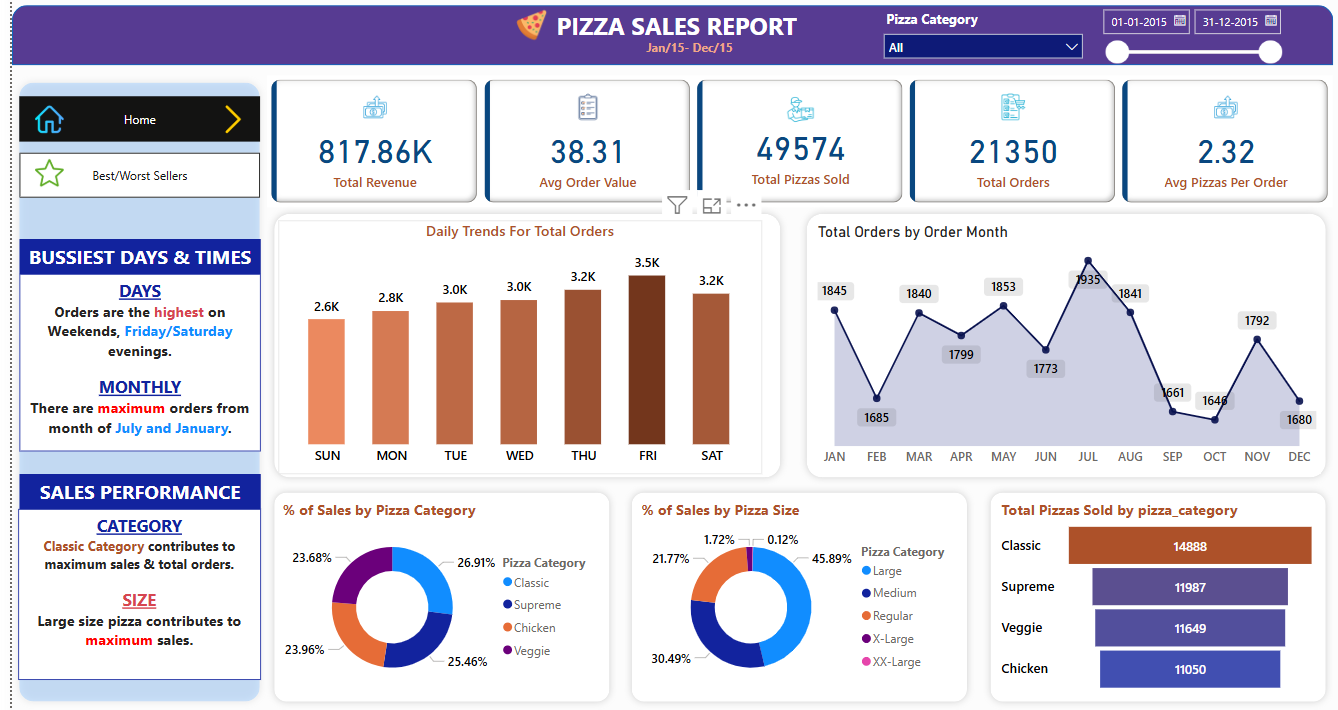

What the dashboard file says about the page in this screenshot:
{"tool":"powerbi","page":{"name":"Home","canvas":[1500,820],"ordinal":0},"visuals":[{"type":"shape","box":[0,96.1,284.1,706.1],"z":0},{"type":"cardVisual","fields":{"Data":["pizza_sales.Total Revenue","pizza_sales.Avg Order Value","pizza_sales.Total Pizzas Sold","pizza_sales.Total Orders","pizza_sales.Avg Pizzas Per Order"]},"box":[284.3,95.7,1187.1,147.1],"z":1000},{"type":"shape","box":[0,18.1,1472.1,66.8],"z":2000},{"type":"textbox","box":[601.4,18.6,305.7,45.7],"z":3000},{"type":"textbox","box":[674.3,51.4,161.4,32.9],"z":4000},{"type":"image","box":[535.7,18.6,85.7,44.3],"z":5000},{"type":"shape","box":[284.3,242.9,580,310],"z":6000},{"type":"columnChart","title":"Daily Trends For Total Orders","fields":{"Category":["pizza_sales.Order Day"],"Y":["pizza_sales.Total Orders"]},"box":[297.1,257.1,538.6,282.9],"z":7000},{"type":"shape","box":[877.1,242.9,594.3,310],"z":8000},{"type":"areaChart","fields":{"Y":["pizza_sales.Total Orders"],"Category":["pizza_sales.Order Month"]},"box":[892.9,260,565.7,280],"z":9000},{"type":"shape","box":[284.1,552.9,389.9,249.3],"z":10000},{"type":"shape","box":[682.4,552.9,389.9,249.3],"z":11000},{"type":"shape","box":[1082.1,552.9,389.9,249.3],"z":12000},{"type":"donutChart","title":"% of Sales by Pizza Category","fields":{"Category":["pizza_sales.pizza_category"],"Y":["pizza_sales.Total Revenue"]},"box":[296.6,568.2,363.5,220],"z":13000},{"type":"donutChart","title":"% of Sales by Pizza Size","fields":{"Y":["pizza_sales.Total Revenue"],"Category":["pizza_sales.pizza_size"]},"box":[696.3,568.2,363.5,220],"z":14000},{"type":"funnel","fields":{"Category":["pizza_sales.pizza_category"],"Y":["pizza_sales.Total Pizzas Sold"]},"box":[1097.4,568.2,360.7,220],"z":15000},{"type":"textbox","box":[8.4,278.5,268.8,39],"z":16000},{"type":"textbox","box":[8.4,317.5,268.8,197.8],"z":17000},{"type":"textbox","box":[7,579.4,270.2,190.8],"z":18000},{"type":"textbox","box":[8.4,540.4,268.8,39],"z":19000},{"type":"slicer","fields":{"Values":["pizza_sales.pizza_category"]},"box":[960.9,18.1,242.3,66.8],"z":20000},{"type":"slicer","fields":{"Values":["pizza_sales.order_date"]},"box":[1203.3,12.5,220,78],"z":21000},{"type":"pageNavigator","box":[8.4,119.8,268.8,50.1],"z":22000},{"type":"pageNavigator","box":[8.4,182.4,268.8,50.1],"z":23000},{"type":"image","box":[225.6,121.2,41.8,48.7],"z":24000},{"type":"image","box":[20.9,115.6,41.8,59.9],"z":25000},{"type":"image","box":[20.9,182.4,41.8,44.6],"z":26000}]}

Visuals, with their boxes on the page's 1500x820 design canvas (x1, y1, x2, y2). These are canvas units, not pixel positions in the 1338x710 screenshot, which may show the page scaled, cropped or inside an application window:
shape: <box>0,96,284,802</box>
cardVisual - pizza_sales.Total Revenue x pizza_sales.Avg Order Value: <box>284,96,1471,243</box>
shape: <box>0,18,1472,85</box>
textbox: <box>601,19,907,64</box>
textbox: <box>674,51,836,84</box>
image: <box>536,19,621,63</box>
shape: <box>284,243,864,553</box>
"Daily Trends For Total Orders" columnChart: <box>297,257,836,540</box>
shape: <box>877,243,1471,553</box>
areaChart - pizza_sales.Total Orders x pizza_sales.Order Month: <box>893,260,1459,540</box>
shape: <box>284,553,674,802</box>
shape: <box>682,553,1072,802</box>
shape: <box>1082,553,1472,802</box>
"% of Sales by Pizza Category" donutChart: <box>297,568,660,788</box>
"% of Sales by Pizza Size" donutChart: <box>696,568,1060,788</box>
funnel - pizza_sales.pizza_category x pizza_sales.Total Pizzas Sold: <box>1097,568,1458,788</box>
textbox: <box>8,278,277,318</box>
textbox: <box>8,318,277,515</box>
textbox: <box>7,579,277,770</box>
textbox: <box>8,540,277,579</box>
slicer - pizza_sales.pizza_category: <box>961,18,1203,85</box>
slicer - pizza_sales.order_date: <box>1203,12,1423,90</box>
pageNavigator: <box>8,120,277,170</box>
pageNavigator: <box>8,182,277,232</box>
image: <box>226,121,267,170</box>
image: <box>21,116,63,176</box>
image: <box>21,182,63,227</box>
